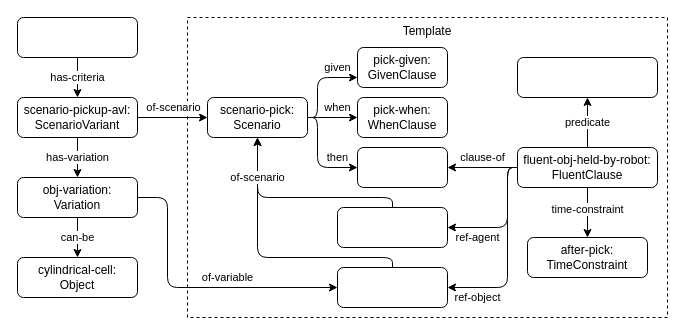
Image size: 685x335. Some labels were removed from this diagram. Here are the shapes that lost their labels. From the top down, the centre of each, then its label:
point (77, 37): us-single-arm: UserStory
point (587, 77): pred-obj-held-by-robot: IsHeldPredicate
point (402, 167): pick-then: ThenClause
point (392, 227): pick-robot: ScenarioVariable
point (392, 287): pick-object: ScenarioVariable
